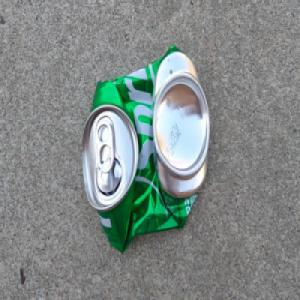SodaCan: (80, 43, 210, 254)
